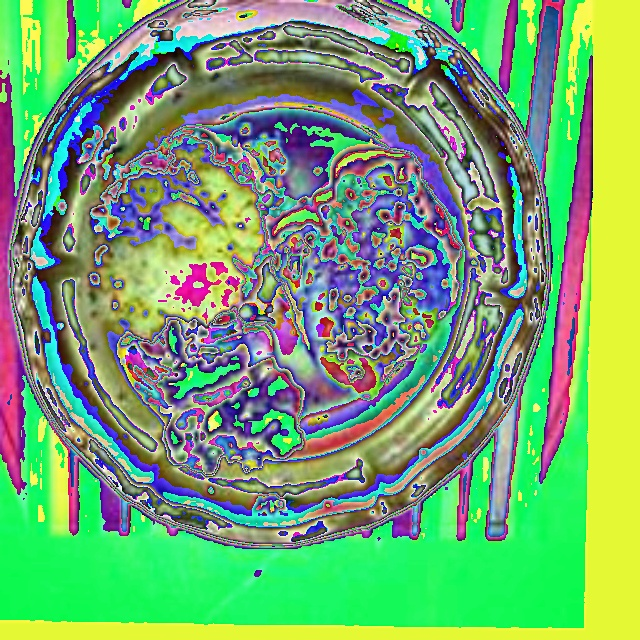background: (85, 130, 462, 482)
